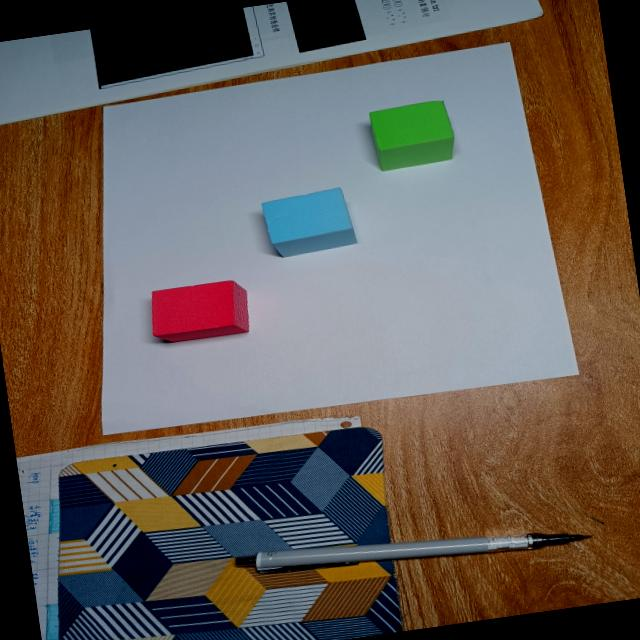BLUE: (259, 187, 358, 257)
GREEN: (368, 100, 454, 172)
RED: (151, 282, 250, 342)
